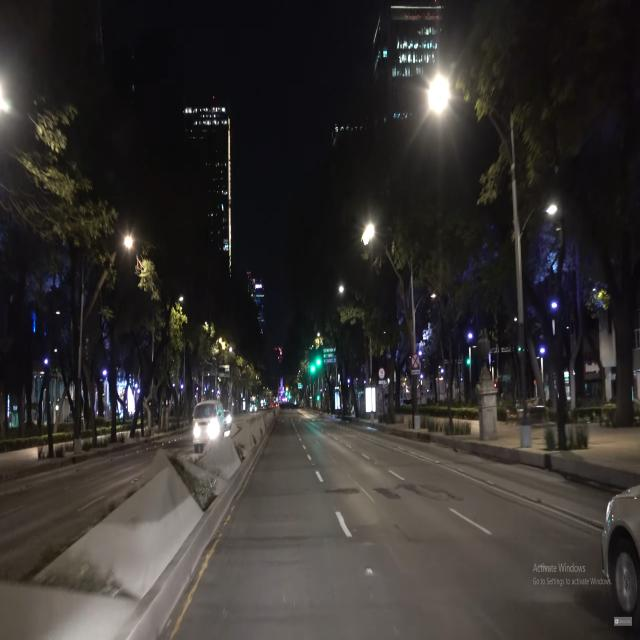headlights: (190, 419, 223, 444)
